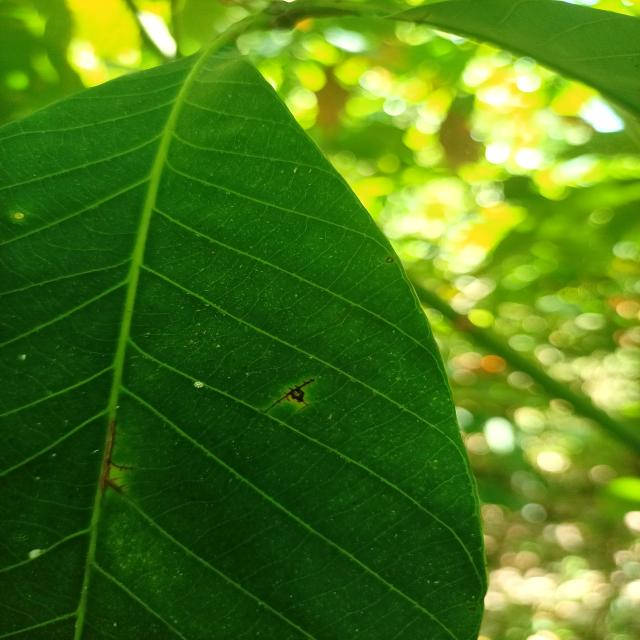Colletotrichum: (386, 256, 394, 263)
Corynespora: (100, 419, 136, 496), (259, 378, 316, 414)
